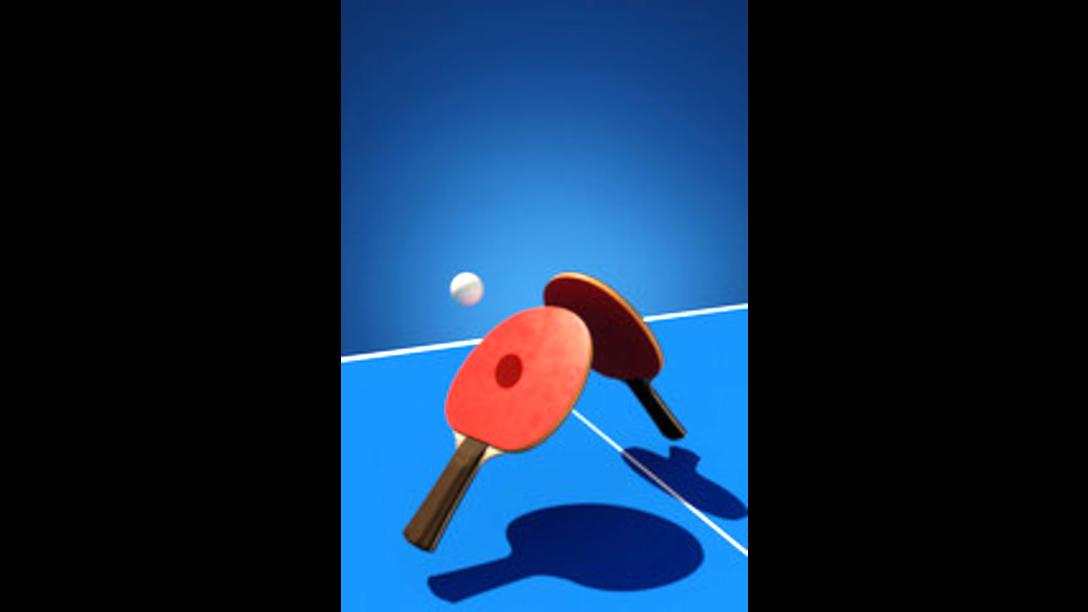Table-Tennis-Ball: (450, 272, 482, 304)
